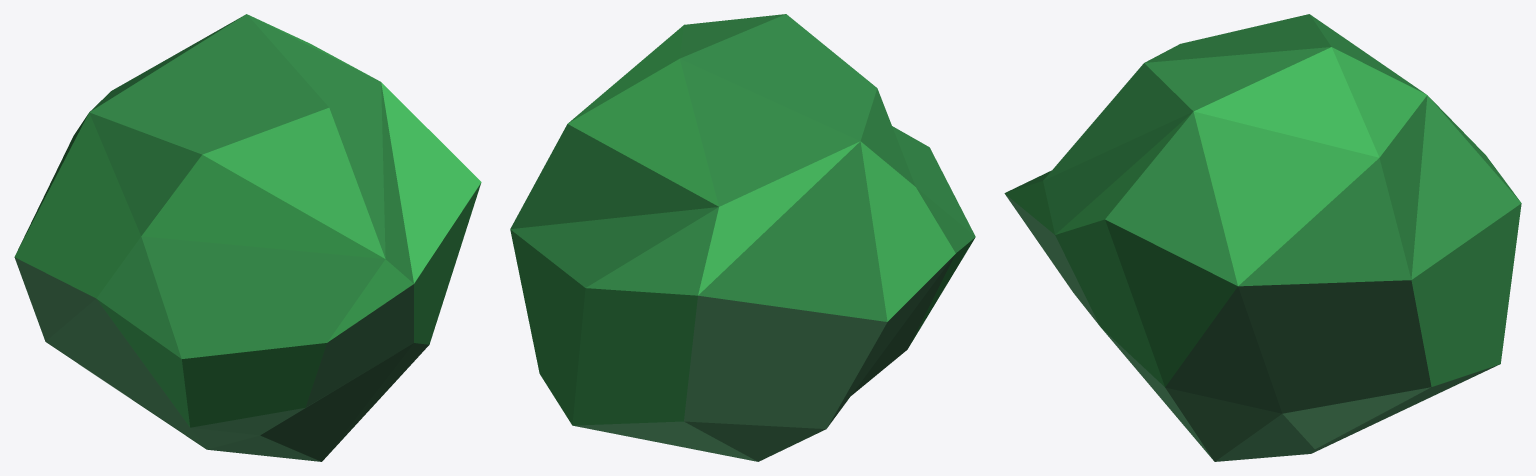
File: bush 2.fbx
3 views of the same model, side by side, from view 1: azimuth 30°, elevation 25°; view 2: azimuth 150°, elevation 25°; view 3: azimuth 270°, elevation 25° (orthographic).
Visible parts, largest first — view 1: Roundcube; view 2: Roundcube; view 3: Roundcube.
Boxes of the visible parts, x1,y1,x2,y2 form: Roundcube: (14,14,481,461); Roundcube: (510,14,975,461); Roundcube: (1004,14,1521,461).
Size of the model in its own units: 233 by 243 by 280.
